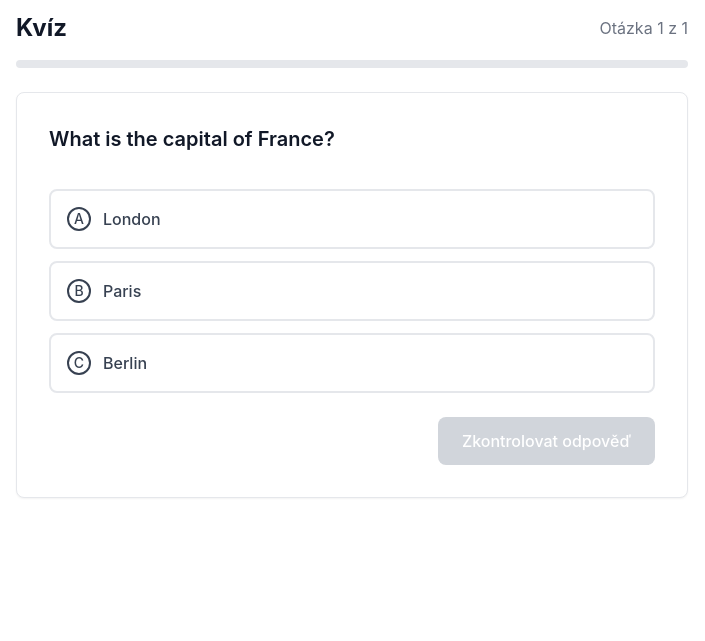
ChapterQuiz › handles quiz with single question
Expected: the text "Otázka 1 z 1" is shown, [600,16,688,40]
Note: Answer the question
Click the radio button with test id "option-1": (122, 291) [49,261,655,321]
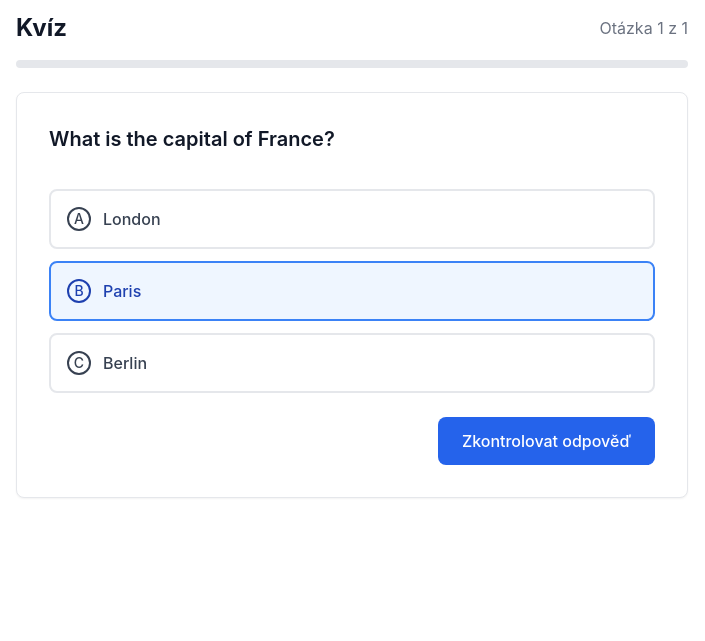
Click the button with test id "check-answer-button": (546, 441) [438,417,655,465]
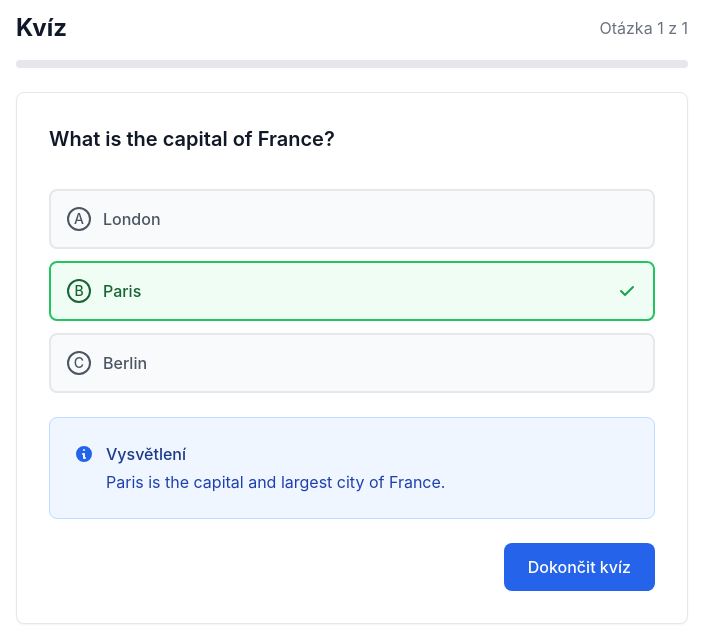
Expected: the button "Dokončit kvíz" is shown
Click the button with test id "next-question-button": (579, 567) [504,543,655,591]
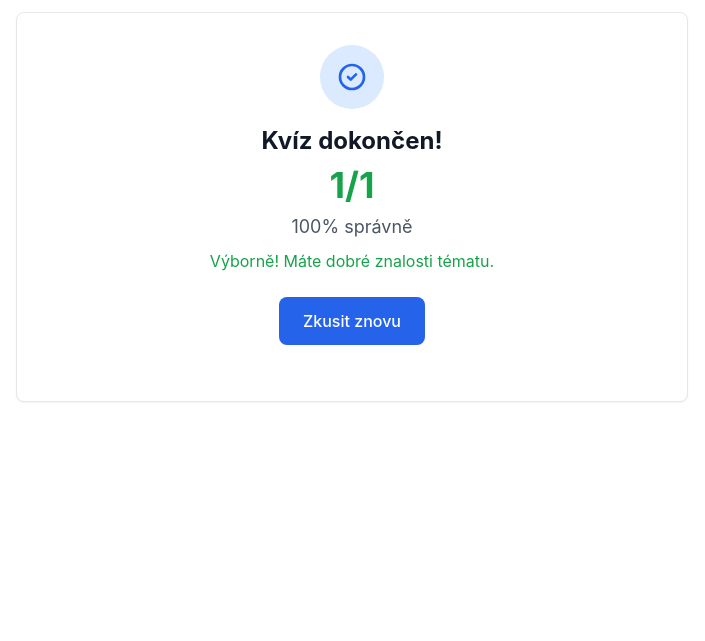
Expected: the heading "Kvíz dokončen!" is shown, [262,126,442,155]
